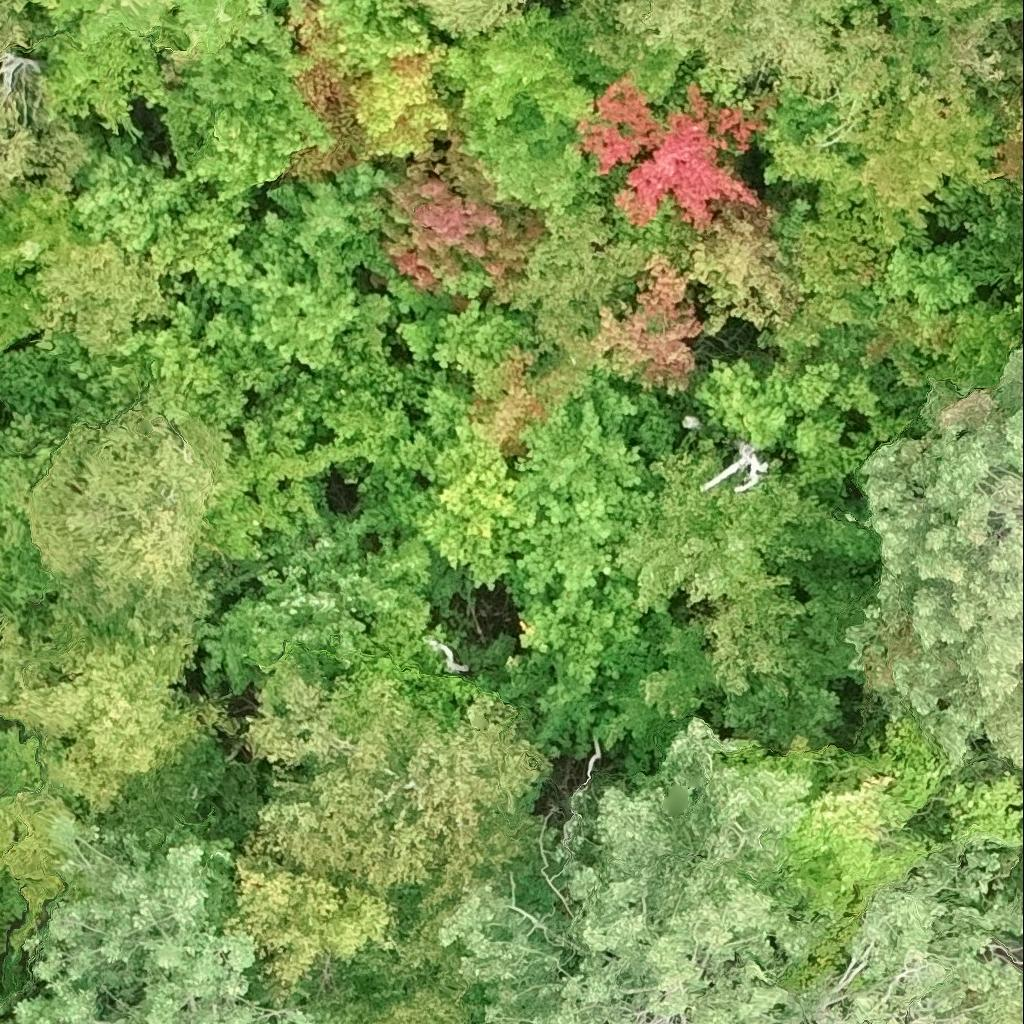crown: (204, 658, 574, 1023), (70, 157, 398, 551), (441, 718, 833, 1023), (596, 427, 885, 763), (325, 298, 615, 586), (848, 342, 1023, 772), (721, 698, 954, 1013), (2, 810, 342, 1023), (0, 590, 273, 851), (502, 378, 678, 758), (760, 0, 1023, 250), (759, 179, 1023, 420), (27, 0, 339, 191), (24, 394, 235, 649), (203, 478, 433, 682), (795, 827, 1023, 1023), (563, 0, 908, 127), (429, 3, 604, 215), (287, 0, 460, 181), (577, 70, 765, 233), (694, 357, 920, 490), (380, 135, 545, 299), (507, 195, 657, 339), (0, 0, 95, 192), (591, 249, 702, 398), (686, 193, 798, 335), (547, 15, 686, 105), (0, 420, 61, 617), (49, 0, 296, 47), (937, 765, 1023, 854), (415, 0, 525, 47), (698, 441, 768, 494), (993, 103, 1023, 194), (0, 1001, 11, 1023)
